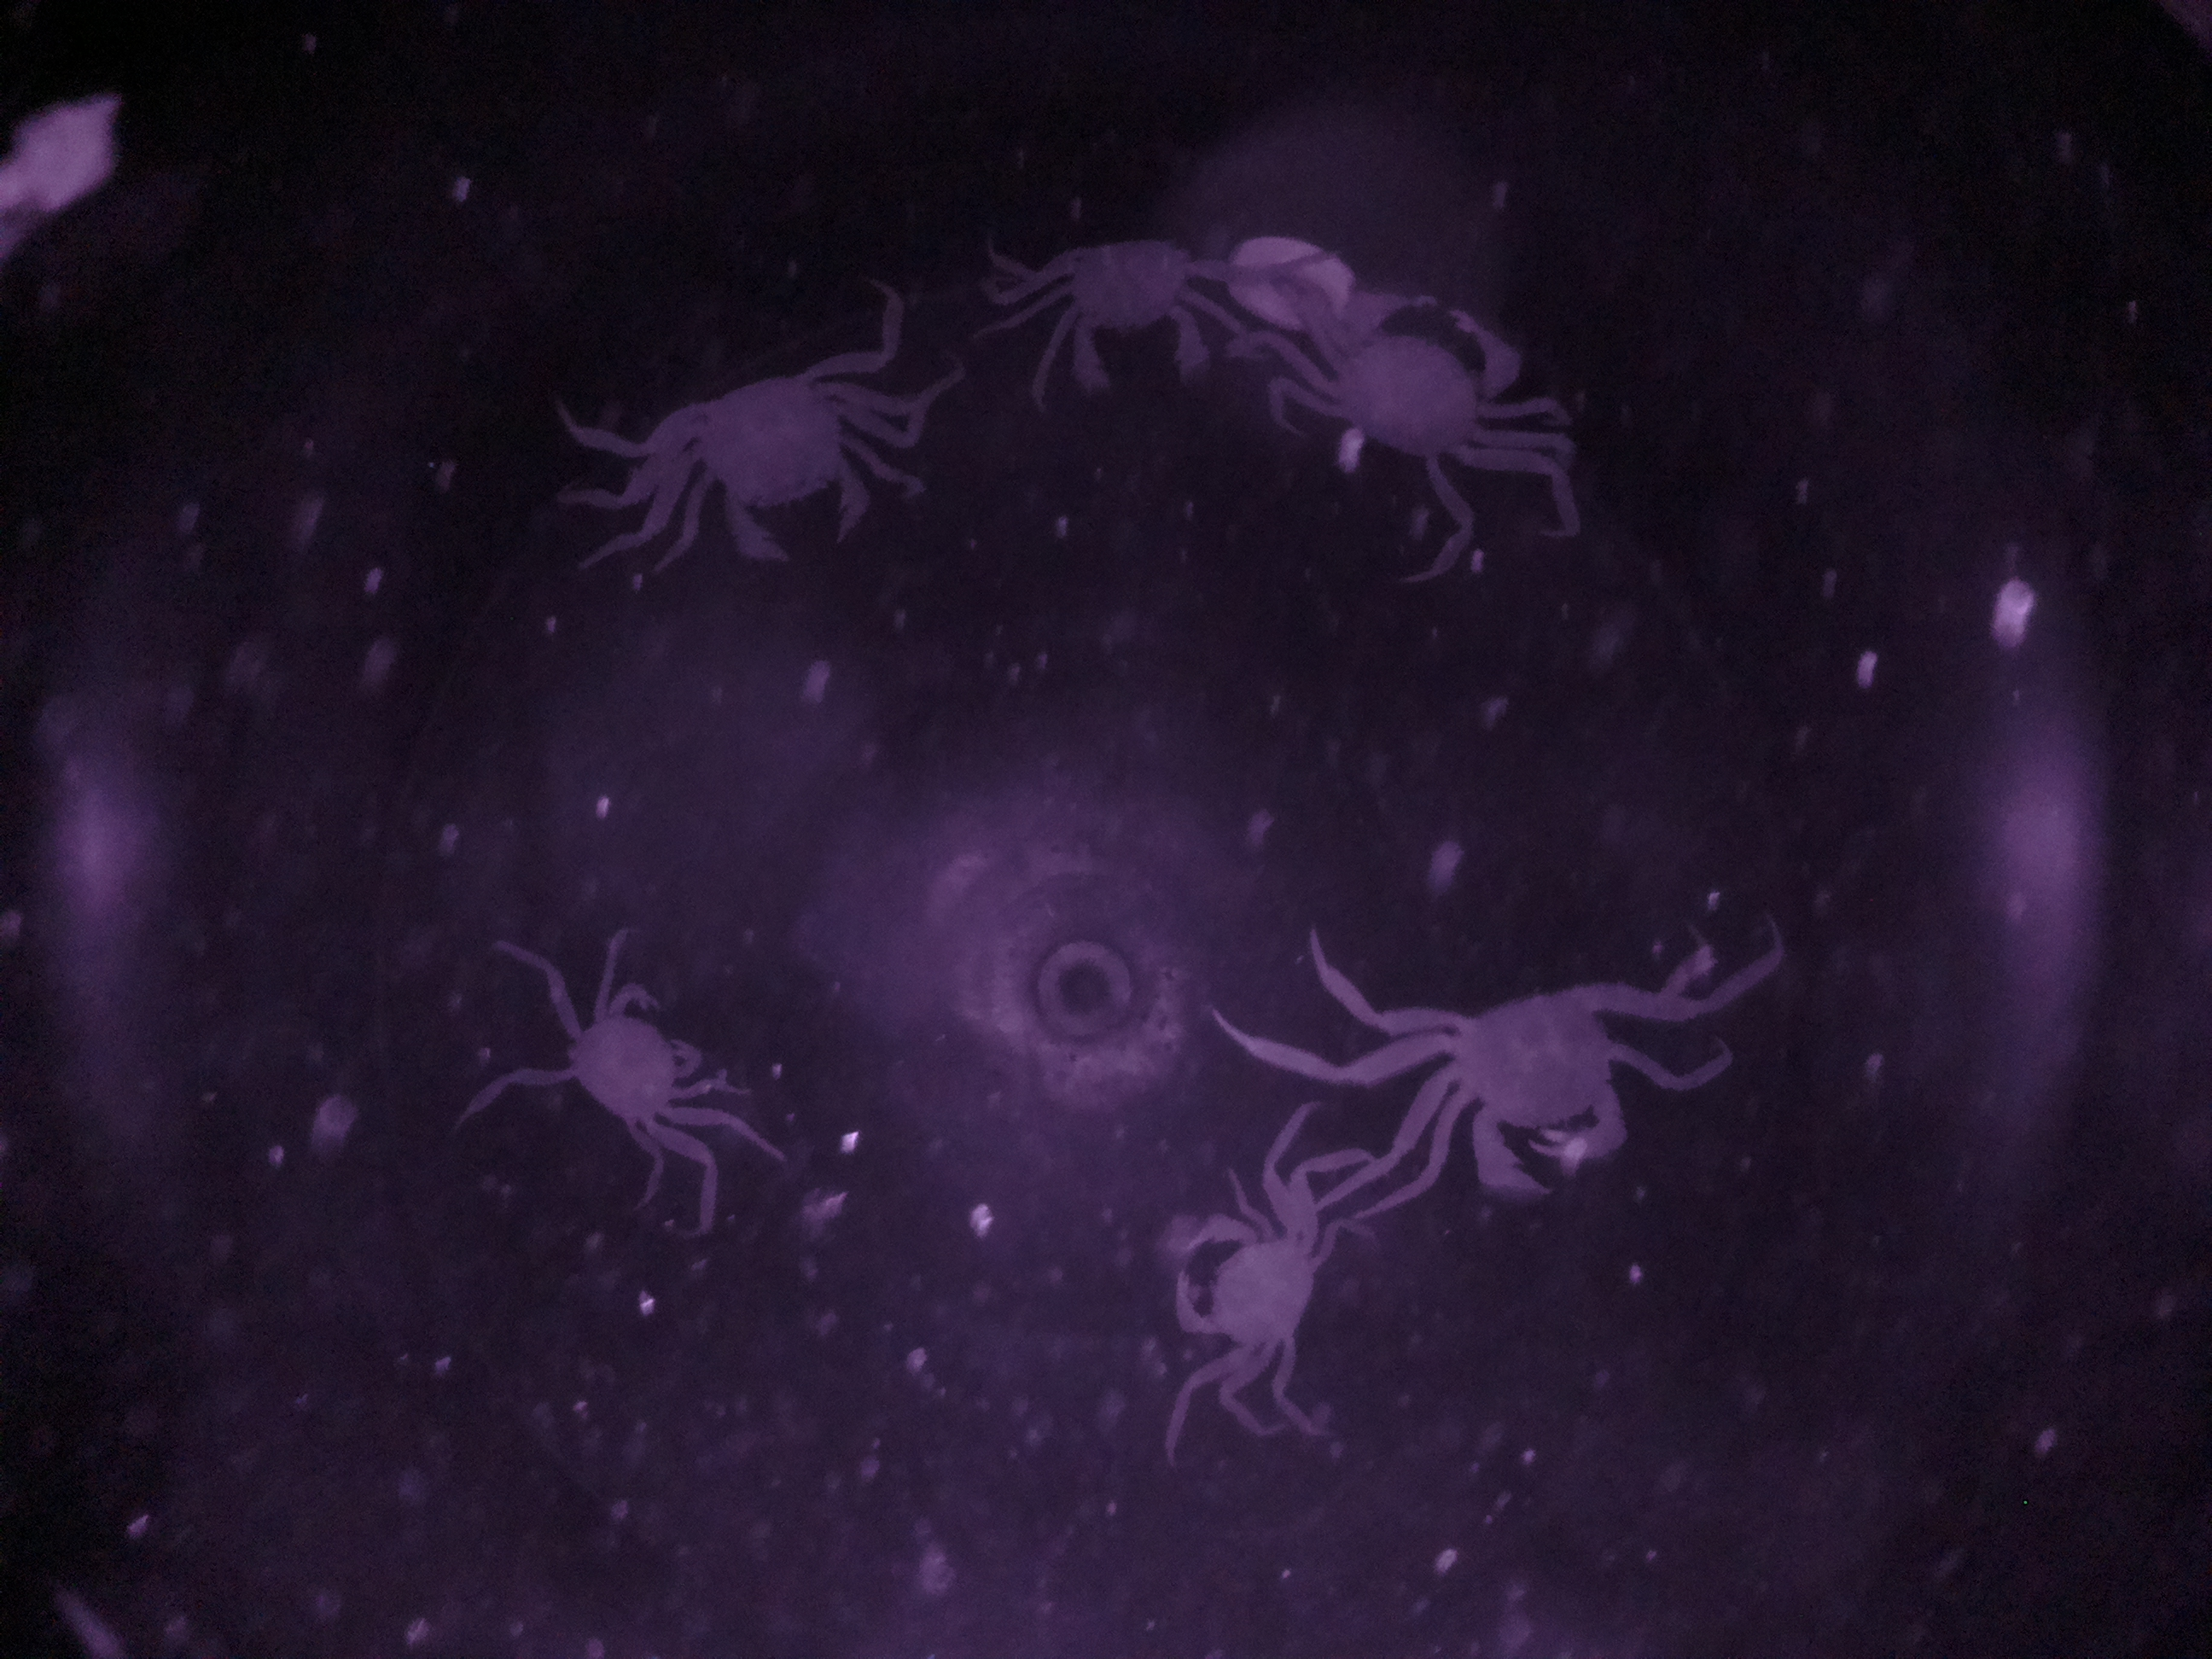Crab: (1399, 960, 1672, 1225), (634, 350, 902, 573), (1292, 279, 1564, 481), (1024, 207, 1233, 416), (1158, 1175, 1345, 1392), (528, 965, 721, 1171)
